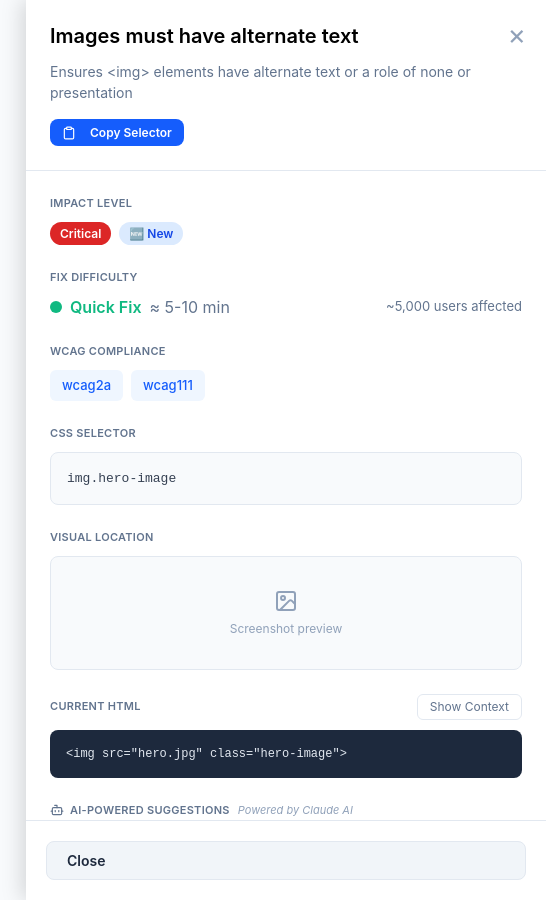
Test case: components/findings/FindingDetails › FindingDetails › shows Copied! state after copying selector
Click the button "Copy Selector".
click(117, 132)  # box 50,119 -> 184,146
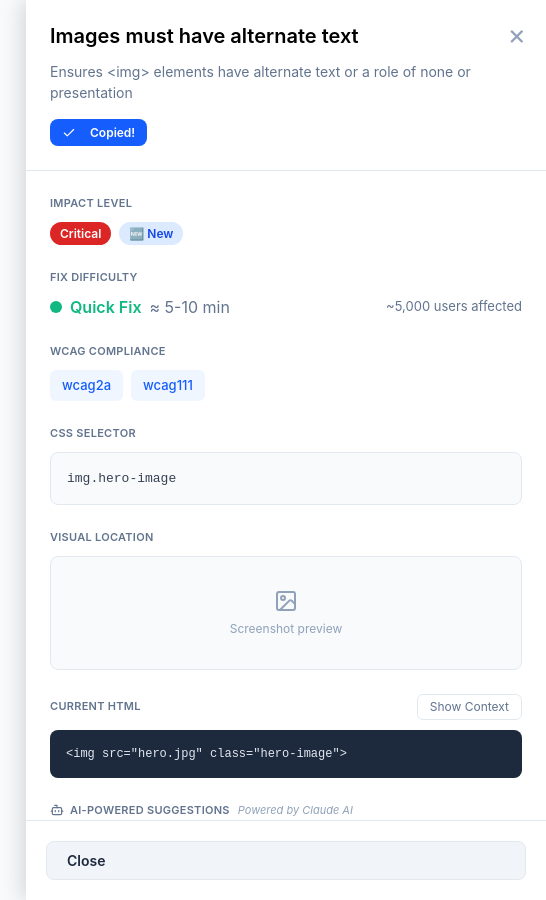
Now the button "Copied!" is shown, box 50,119 -> 147,146
